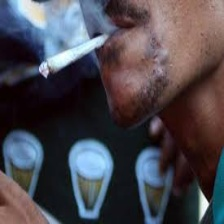smoke: (33, 5, 85, 48)
